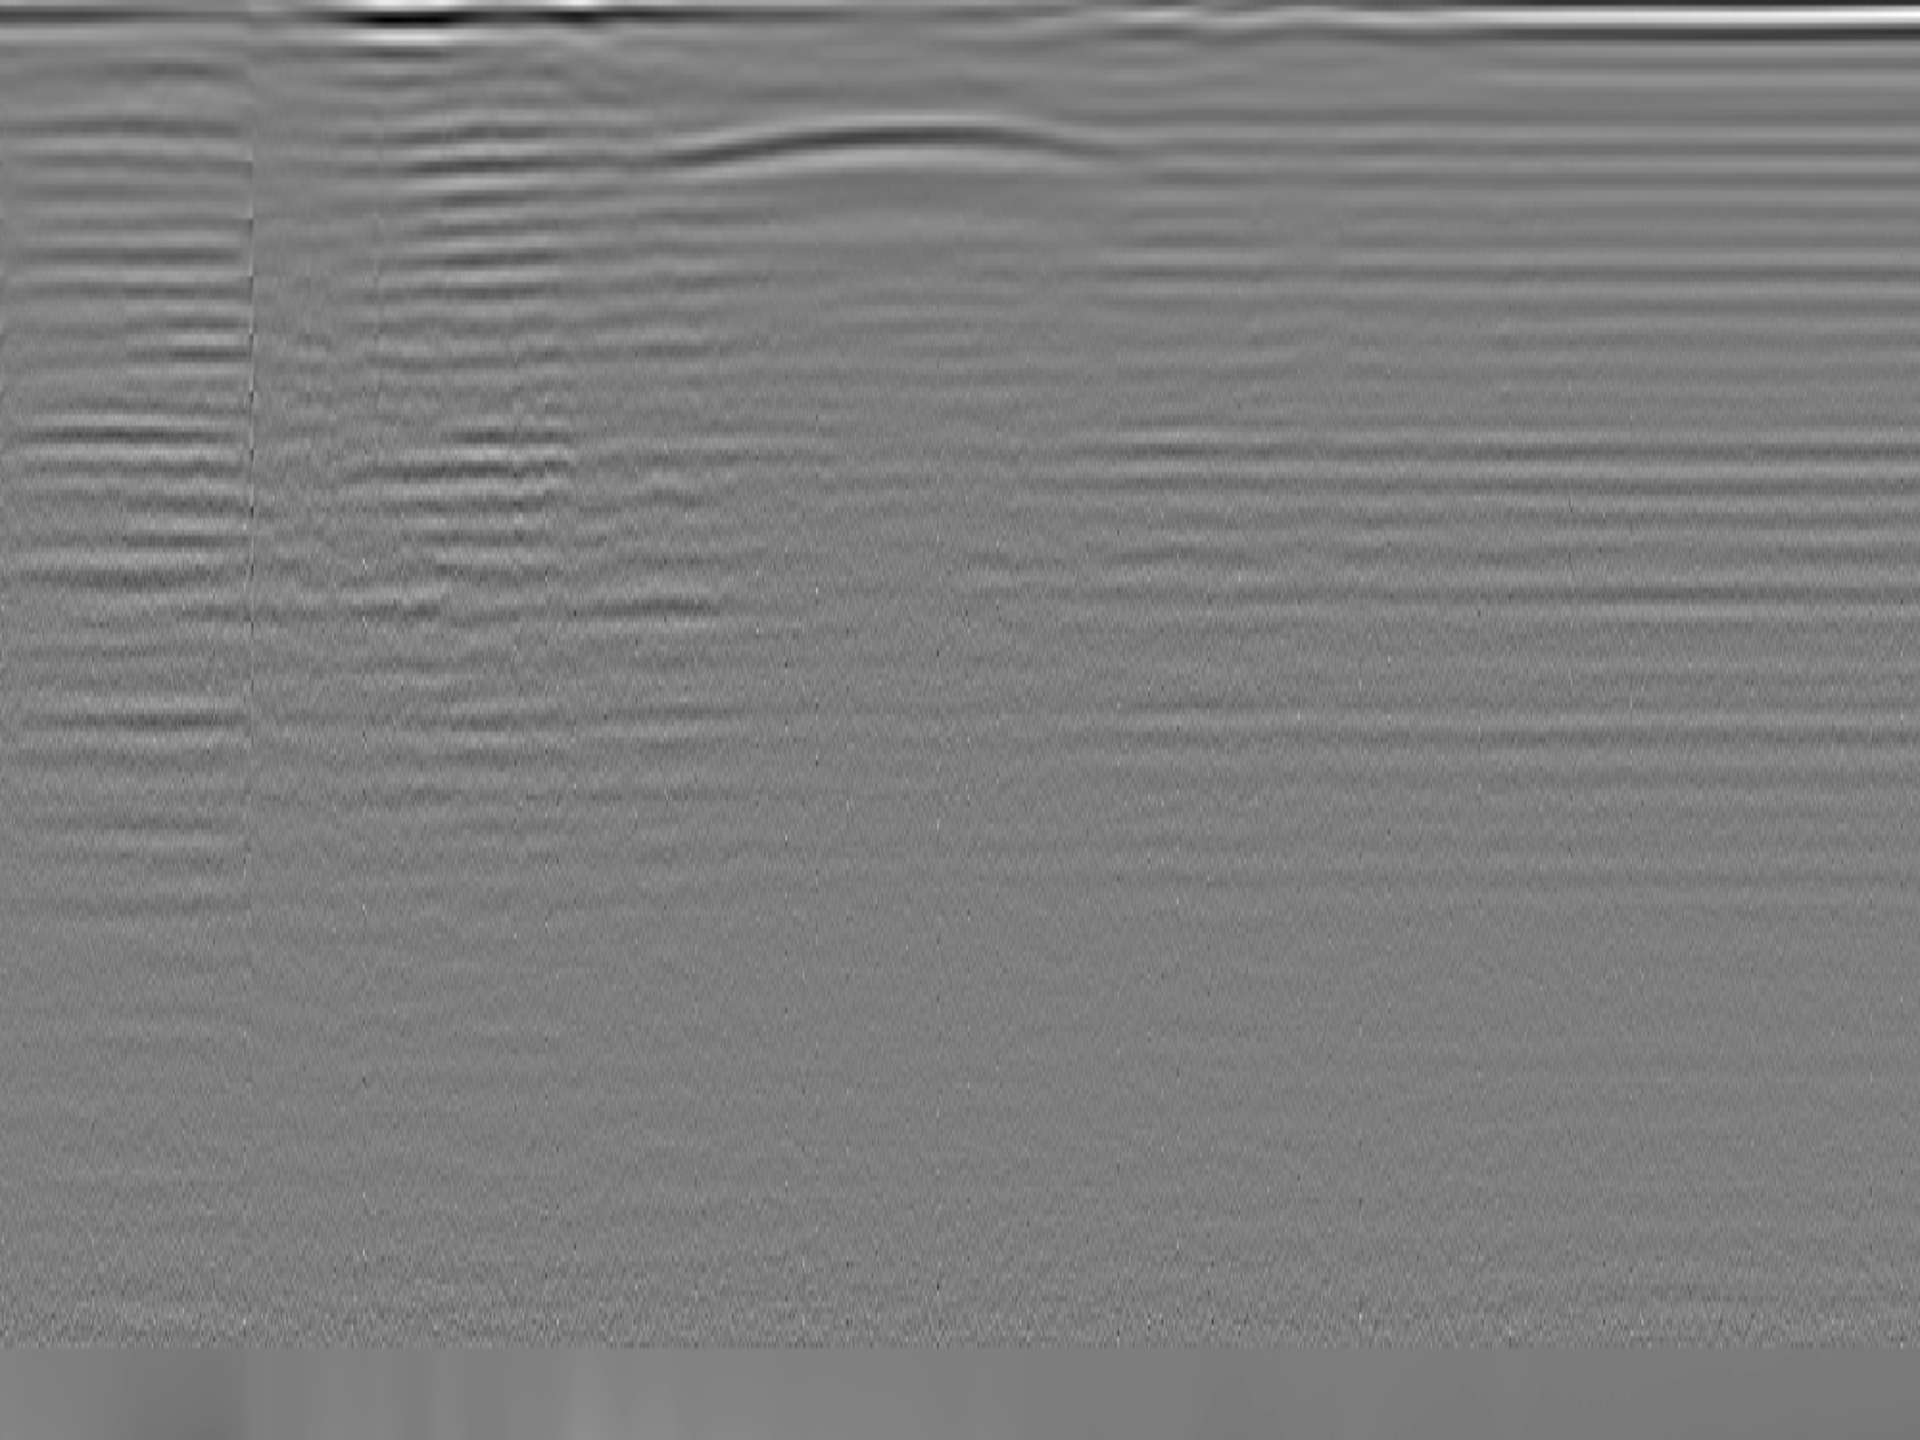Tunnel: (670, 115, 1140, 172)
